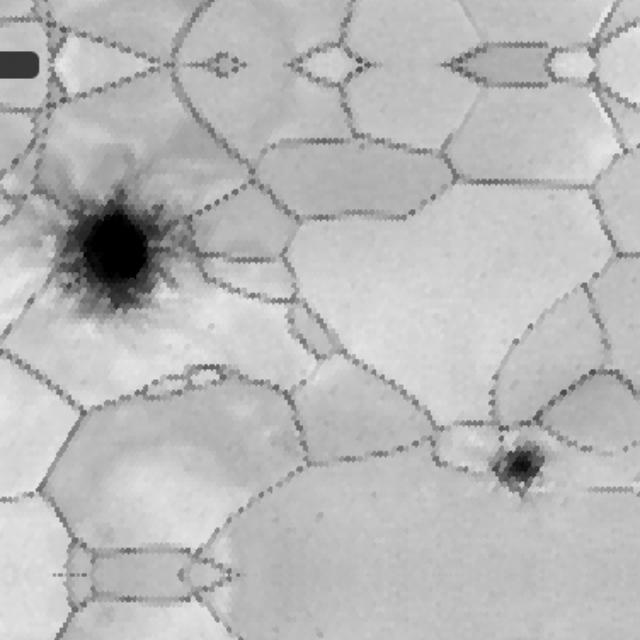good_void: (25, 144, 195, 339), (490, 435, 553, 507), (314, 510, 326, 524), (314, 625, 326, 639), (370, 487, 380, 499), (496, 432, 505, 442), (207, 321, 216, 331)
